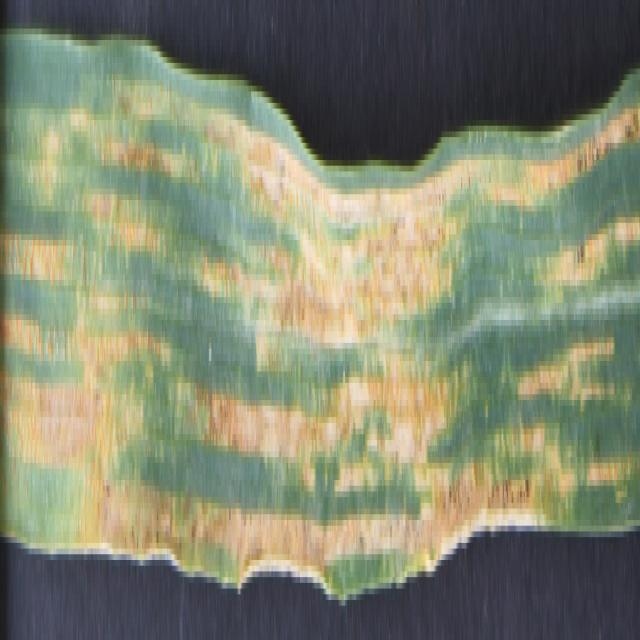leaf rust: (1, 97, 638, 589)
